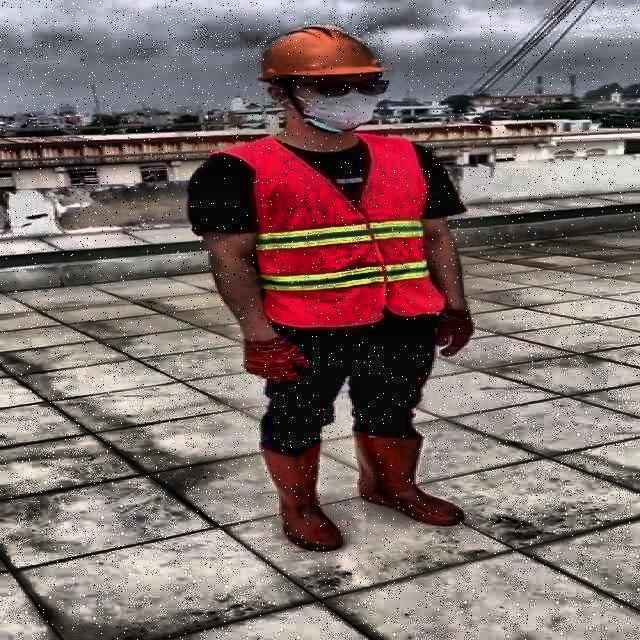safety_helmet: (241, 22, 389, 84)
safety_jacket: (256, 134, 443, 327)
